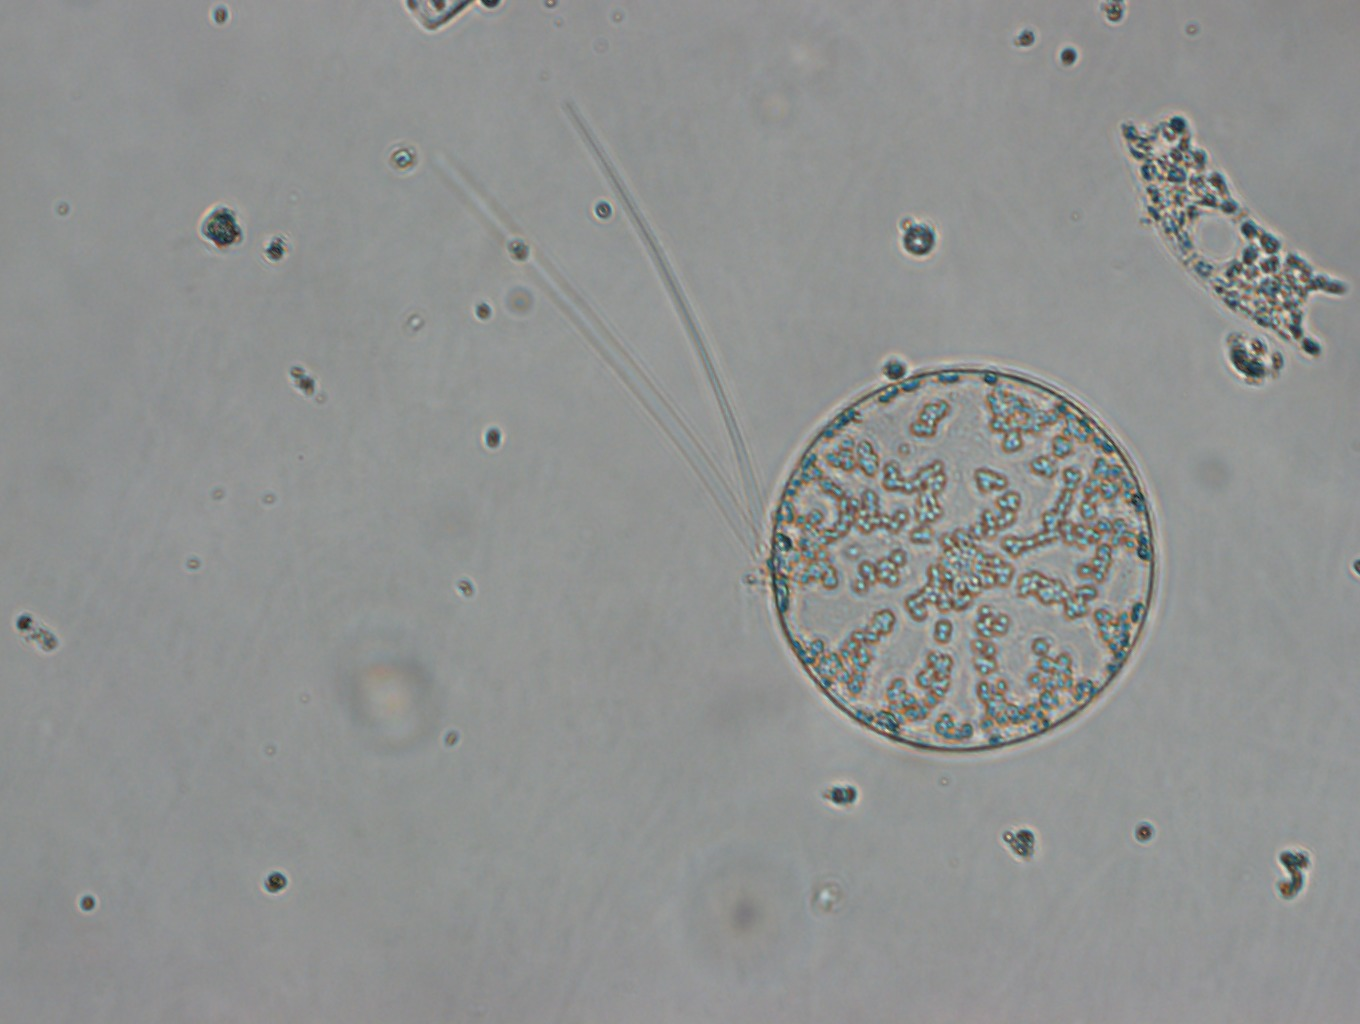coscinodiscus: (753, 360, 1162, 759)
eucampia: (1106, 106, 1352, 358)
